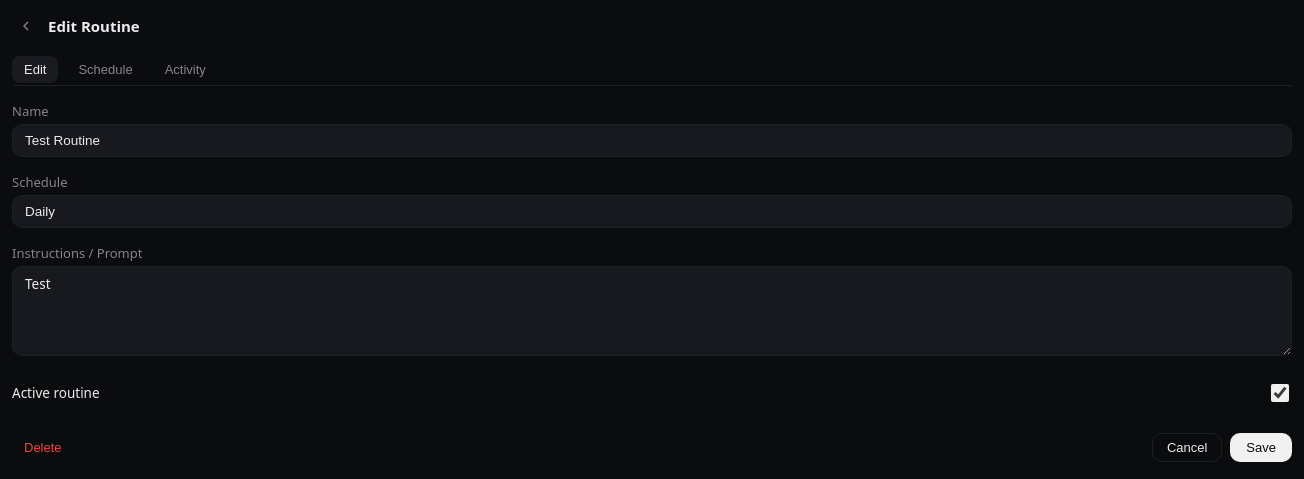
Test: RoutineEditor integration › renders activity tab when editing existing routine
Step 1. Click the button "Activity" → (185, 70), box [153,56,218,83]
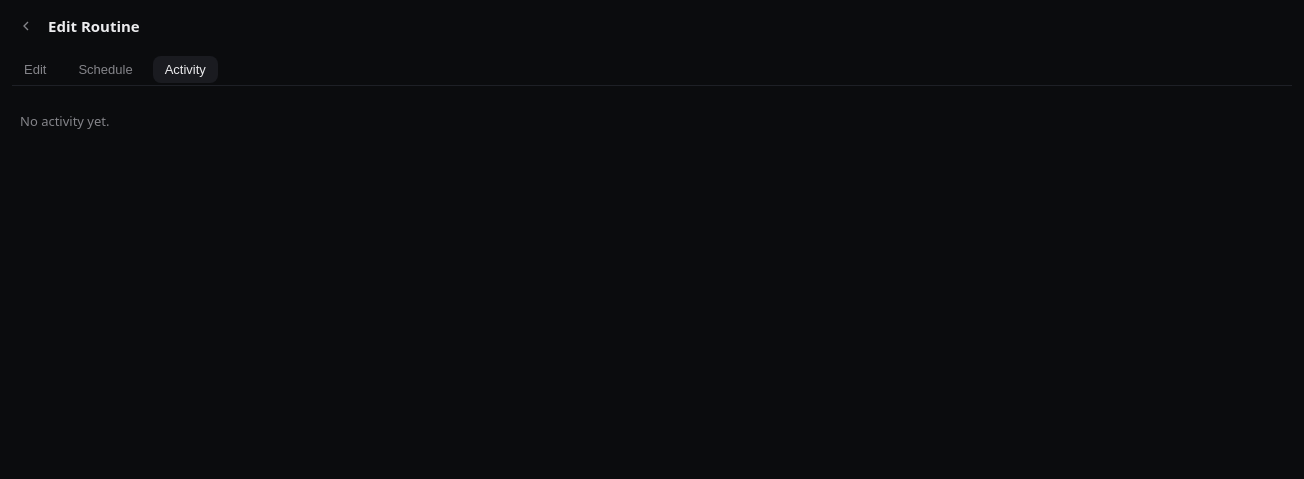
Result: the text "No activity yet." is shown at [20,112,110,130]
